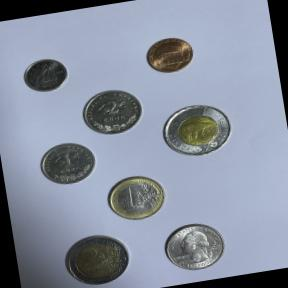coin: (154, 96, 242, 164), (57, 227, 137, 288), (158, 215, 233, 275), (75, 82, 150, 140), (99, 169, 174, 226), (140, 32, 200, 78), (18, 53, 73, 96)
